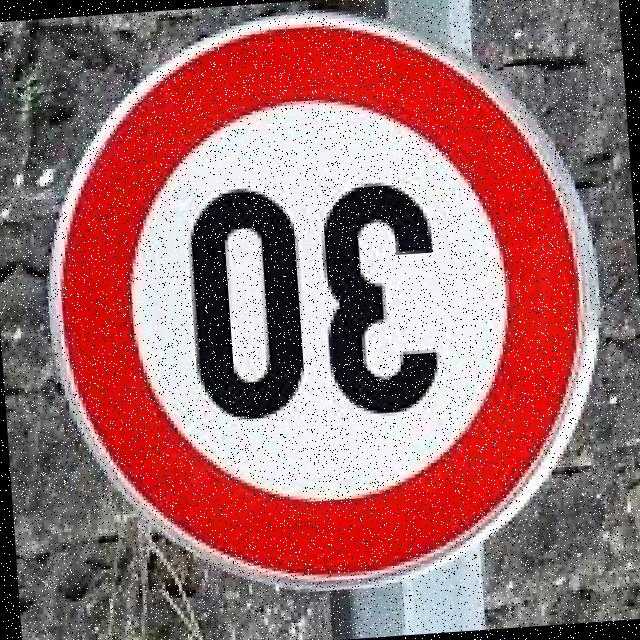speed_limit_30: (8, 0, 635, 619)
